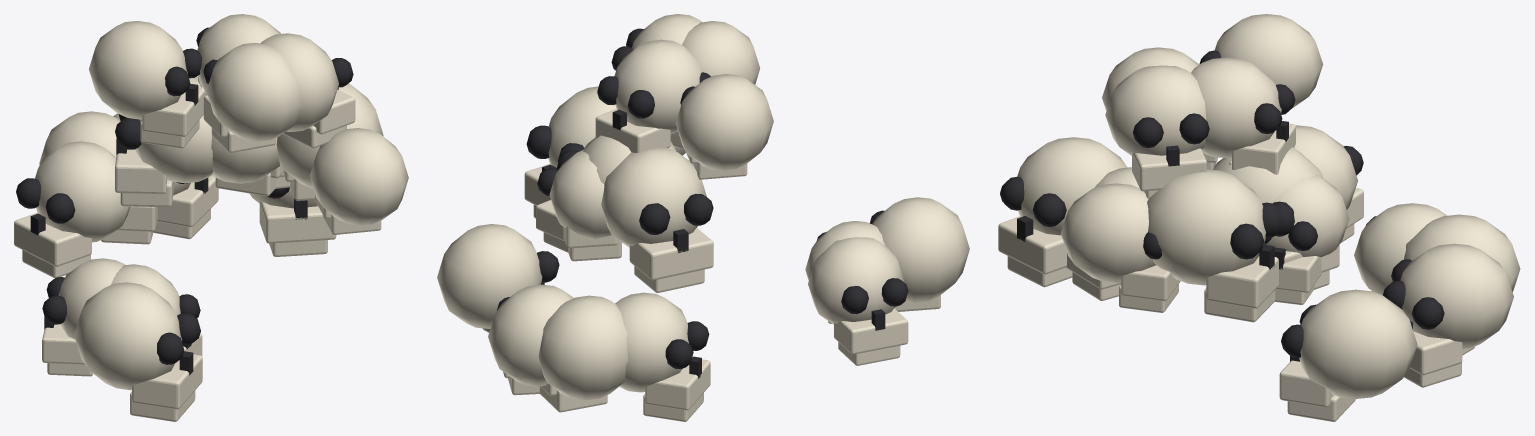
File: bone_heap_skull_pile_big.glb
3 views of the same model, side by side, from view 1: azimuth 30°, elevation 25°; view 2: azimuth 150°, elevation 25°; view 3: azimuth 270°, elevation 25° (orthographic). The views are drawn at different scales.
Parts seen in each view (by area): view 1: GD_bone_heap_skull_pile_big__m0, GD_bone_heap_skull_pile_big__m1; view 2: GD_bone_heap_skull_pile_big__m0, GD_bone_heap_skull_pile_big__m1; view 3: GD_bone_heap_skull_pile_big__m0, GD_bone_heap_skull_pile_big__m1.
Part boxes in pixels (x1,y1,x2,y2): GD_bone_heap_skull_pile_big__m0: [14, 14, 408, 421]; GD_bone_heap_skull_pile_big__m1: [16, 27, 353, 375]; GD_bone_heap_skull_pile_big__m0: [437, 14, 969, 421]; GD_bone_heap_skull_pile_big__m1: [497, 28, 908, 378]; GD_bone_heap_skull_pile_big__m0: [998, 14, 1520, 421]; GD_bone_heap_skull_pile_big__m1: [1000, 50, 1444, 361].
Bounding box in the file's own units: 0.4578 × 0.3185 × 0.5096.
